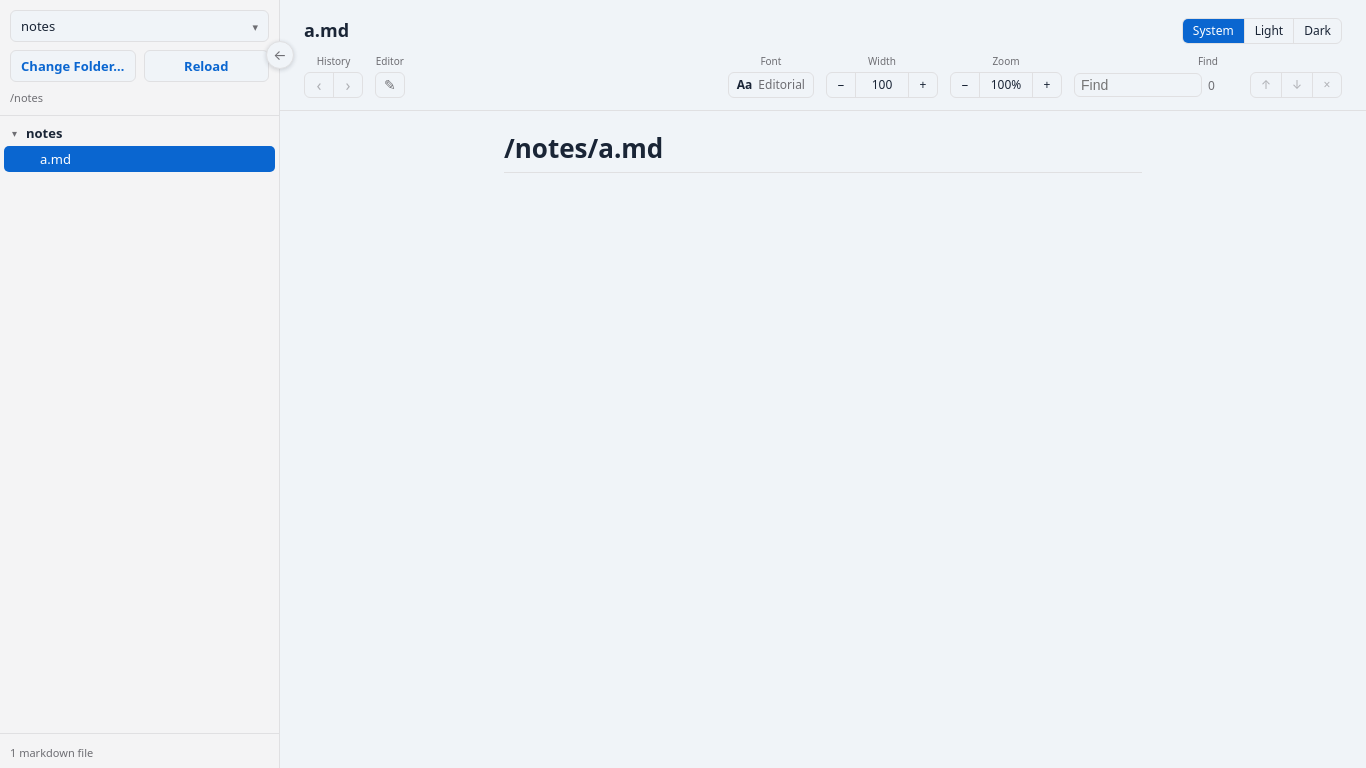
Test: follows a bookmark when the folder has moved
What coordinates should you click on to do the following:
click the button with aria-label "Recent folders"
I would click on:
 (140, 26)
Its box is [10,10,269,42].
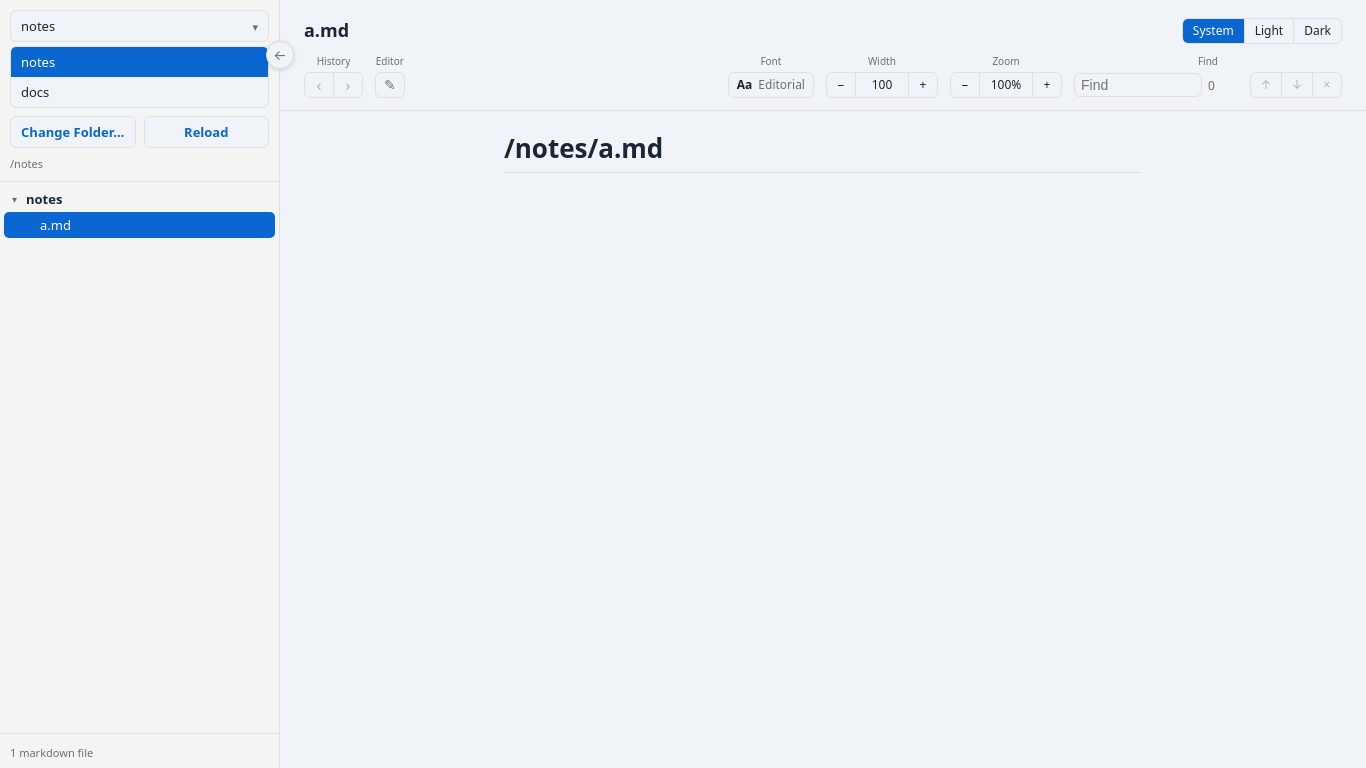
What coordinates should you click on to do the following:
click the menu item with aria-label "/docs"
I would click on:
 (140, 92)
Its box is [11,77,268,107].
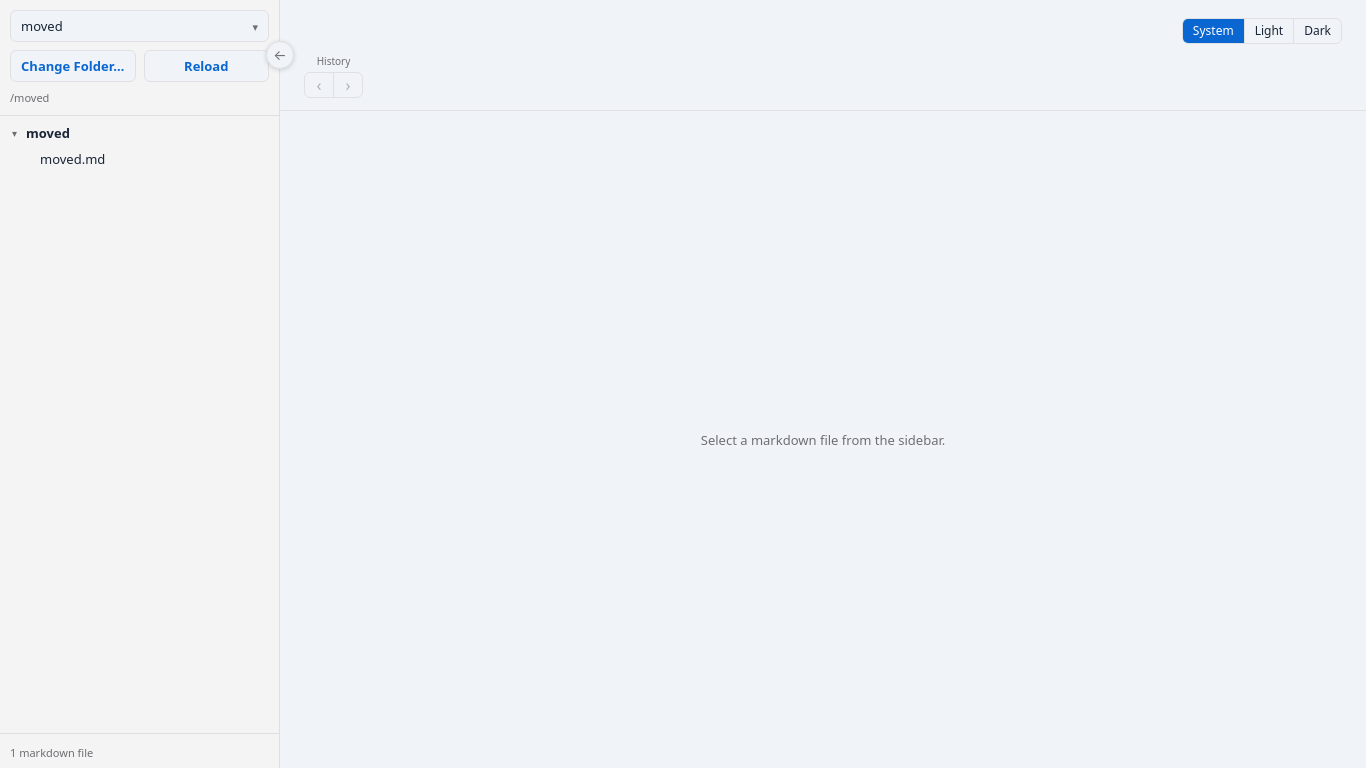
Now the list item "moved.md" is shown, box [4,146,275,172]
